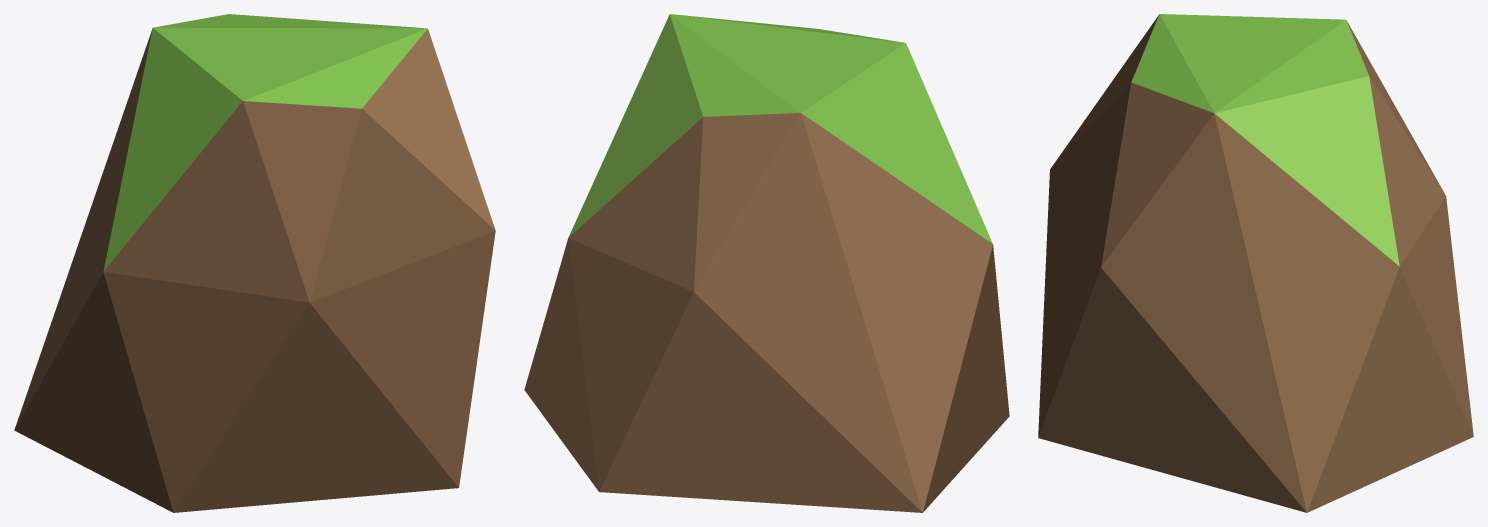
The model's file is rock_smallF.glb.
3 renders of one model, left to right at view 1: azimuth 30°, elevation 25°; view 2: azimuth 150°, elevation 25°; view 3: azimuth 270°, elevation 25°, orthographic. The views are drawn at different scales.
Visible parts, largest first — view 1: rock_smallF; view 2: rock_smallF; view 3: rock_smallF.
Boxes of the visible parts, x1,y1,x2,y2 form: rock_smallF: (14, 14, 495, 512); rock_smallF: (524, 14, 1009, 512); rock_smallF: (1038, 14, 1473, 512).
Size of the model in its own units: 0.2921 by 0.2403 by 0.2676.
1 material, 1 textured.
